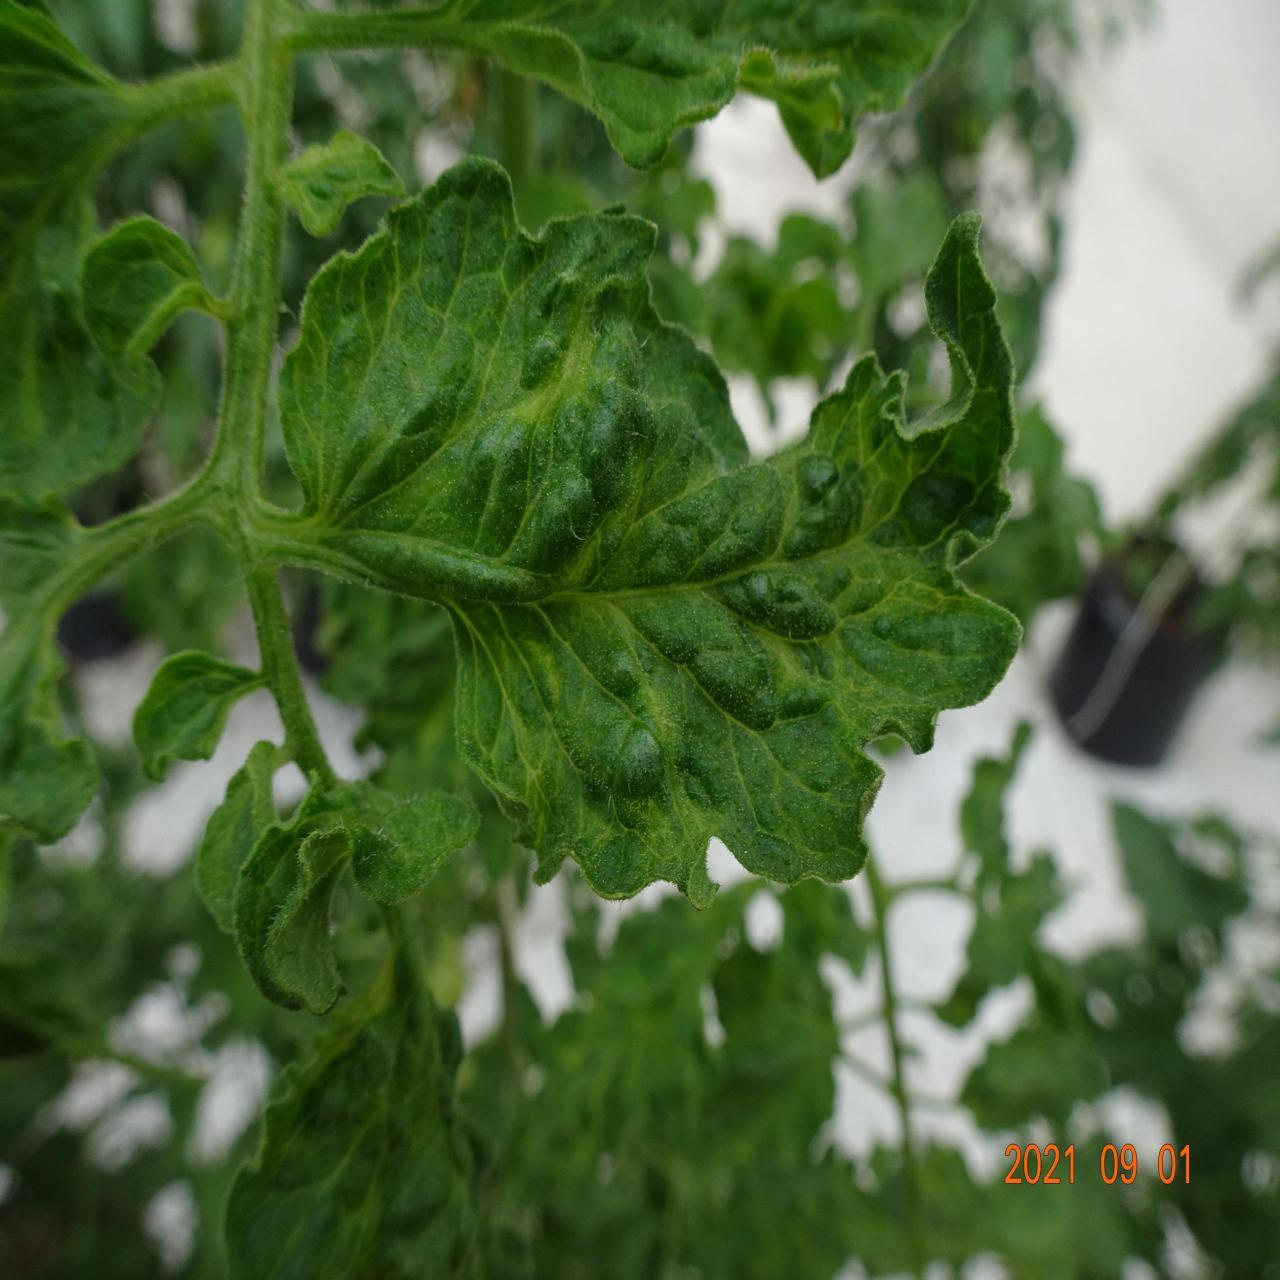T_L_R: (281, 162, 1026, 906), (199, 784, 479, 1014)
T_S_R: (206, 1, 336, 788)
